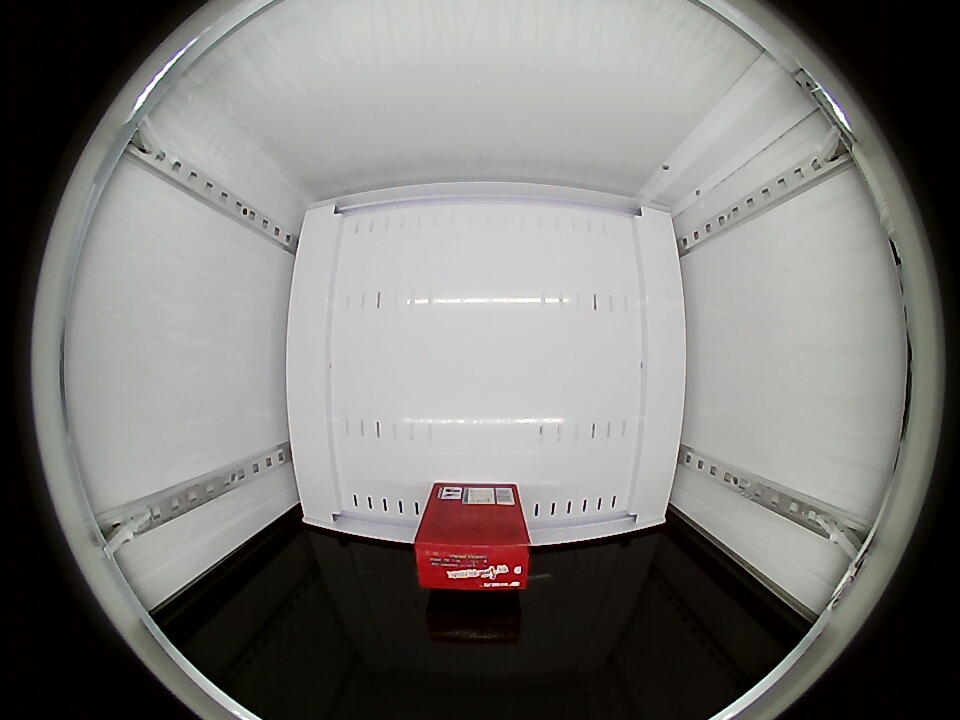haoliyou: (414, 492, 530, 591)
